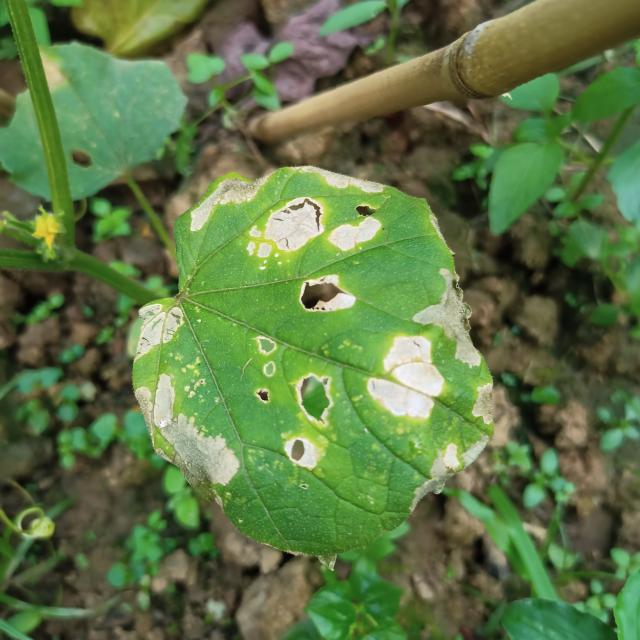disease_cucumber: (250, 269, 516, 490), (175, 163, 396, 317), (117, 292, 246, 546)
